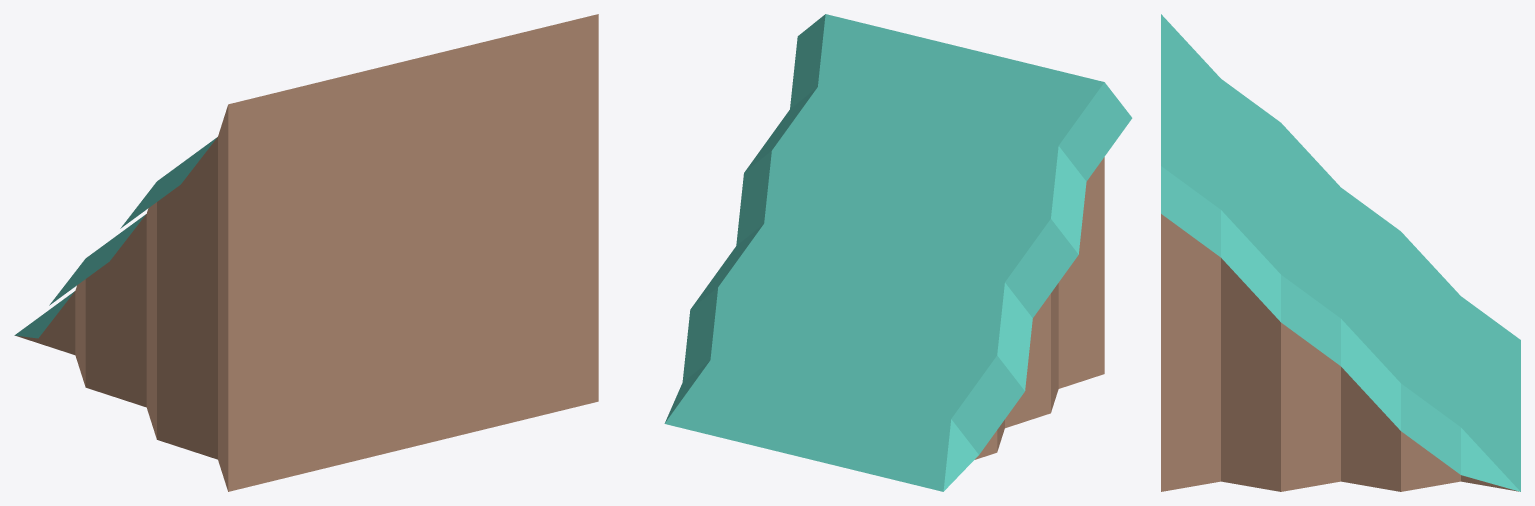
Rendered from cliff_blockSlope_rock.glb.
3 views of the same model, side by side, from view 1: azimuth 30°, elevation 25°; view 2: azimuth 150°, elevation 25°; view 3: azimuth 270°, elevation 25° (orthographic). The views are drawn at different scales.
Parts seen in each view (by area): view 1: cliff_blockSlope_rock; view 2: cliff_blockSlope_rock; view 3: cliff_blockSlope_rock.
Boxes of the visible parts, <box> form: cliff_blockSlope_rock: <box>14,14,598,491</box>; cliff_blockSlope_rock: <box>664,14,1132,491</box>; cliff_blockSlope_rock: <box>1161,14,1520,491</box>.
Size of the model in its own units: 1.2 by 1 by 1.
